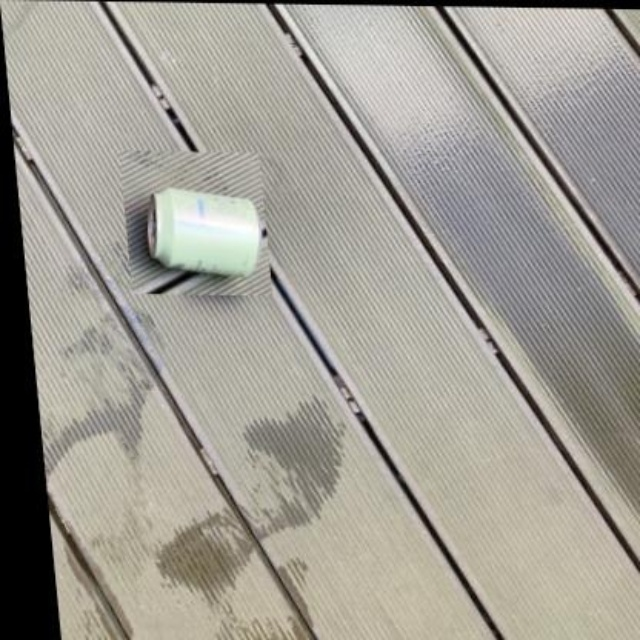trash: (148, 188, 265, 274)
